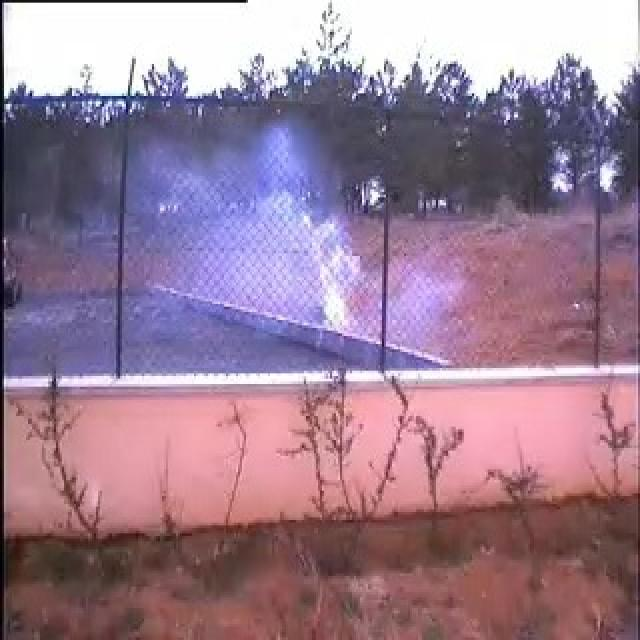smoke: (114, 130, 379, 368)
